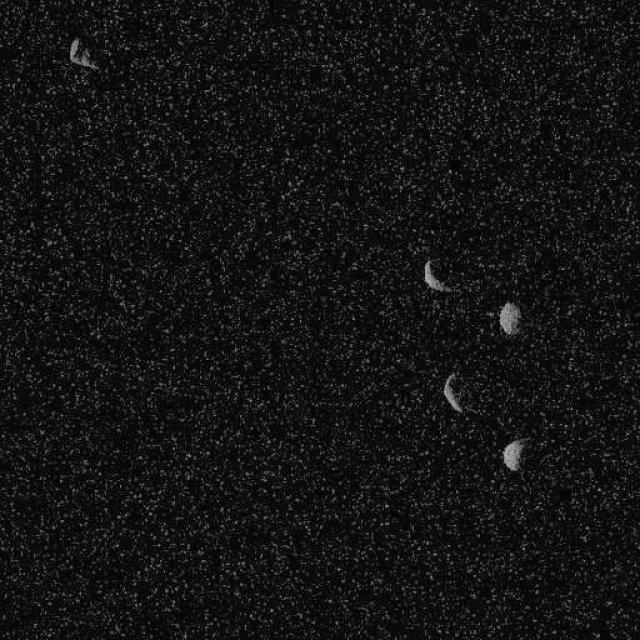D2: (68, 36, 99, 70), (422, 258, 452, 292), (501, 437, 529, 472), (441, 372, 464, 412), (498, 300, 522, 335)
